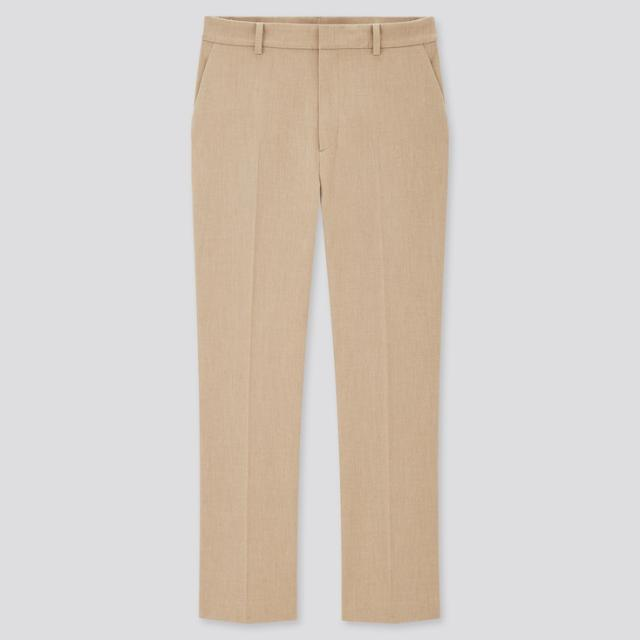long-pants: (190, 16, 451, 630)
